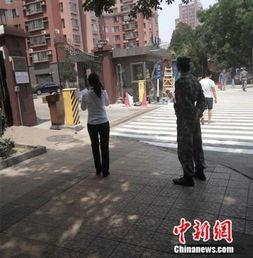up: (168, 50, 209, 186), (82, 73, 118, 180), (198, 68, 218, 127)
